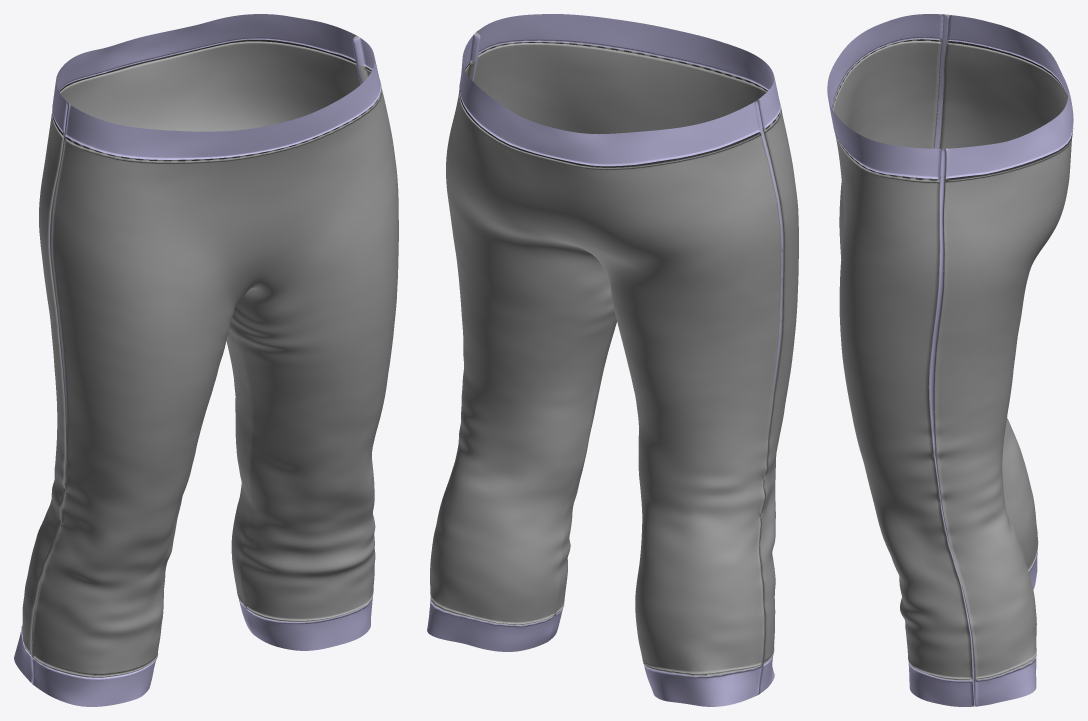
File: women-pants-transformed.glb
3 views of the same model, side by side, from view 1: azimuth 30°, elevation 25°; view 2: azimuth 150°, elevation 25°; view 3: azimuth 270°, elevation 25° (orthographic). The views are drawn at different scales.
Visible parts, largest first — view 1: WOMEN SPORTS PANTS; view 2: WOMEN SPORTS PANTS; view 3: WOMEN SPORTS PANTS.
Boxes of the visible parts, x1=… form: WOMEN SPORTS PANTS: x1=14, y1=14, x2=398, y2=706; WOMEN SPORTS PANTS: x1=427, y1=14, x2=798, y2=706; WOMEN SPORTS PANTS: x1=827, y1=14, x2=1073, y2=706.
Size of the model in its own units: 0.4264 by 0.7367 by 0.2908.
